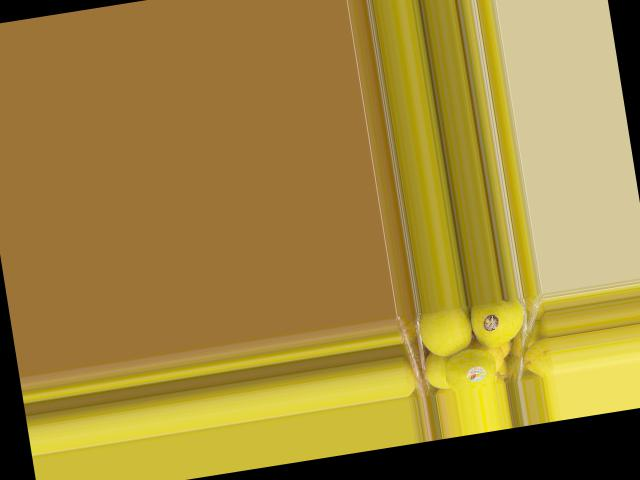apple: (440, 345, 504, 392)
